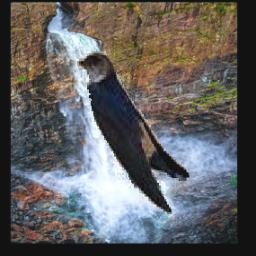Swallow: (78, 52, 228, 223)
